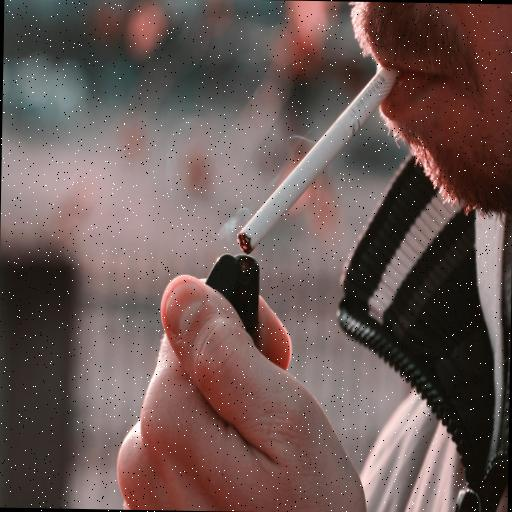membakar rokok: (176, 41, 376, 424)
